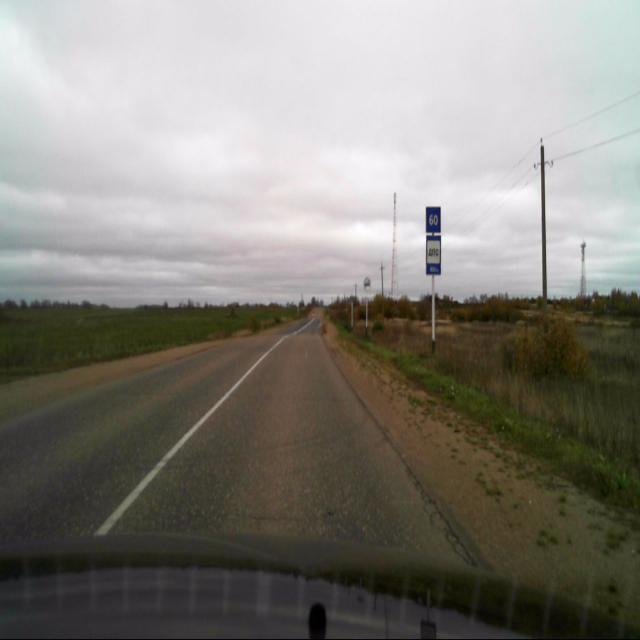object: (431, 276, 436, 359)
road sign: (425, 235, 441, 275), (424, 206, 441, 234)
